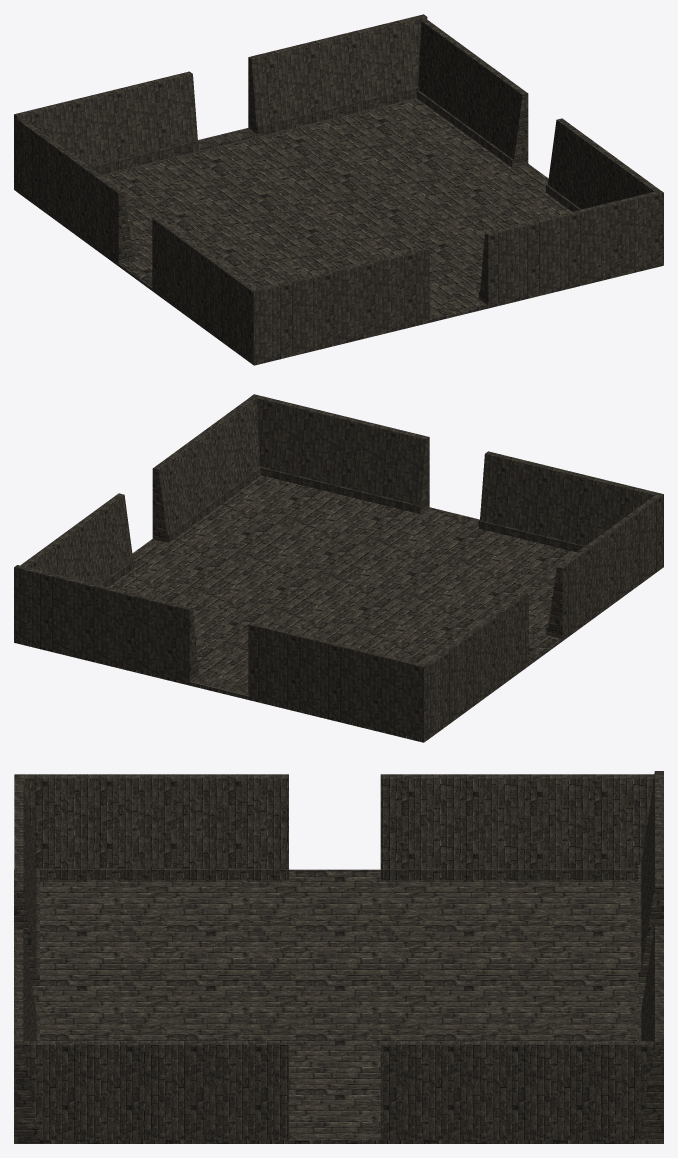
File: Room Singular.fbx
3 renders of one model, top to bottom at view 1: azimuth 30°, elevation 25°; view 2: azimuth 150°, elevation 25°; view 3: azimuth 270°, elevation 25°, orthographic. The views are drawn at different scales.
Visible parts, largest first — view 1: pCube68, polySurface34; view 2: pCube68, polySurface34; view 3: pCube68, polySurface34.
Part boxes in pixels (left/top/right/bottom): pCube68: left=14, top=14, right=663, bottom=365; polySurface34: left=102, top=98, right=663, bottom=365; pCube68: left=14, top=394, right=663, bottom=742; polySurface34: left=109, top=475, right=576, bottom=685; pCube68: left=14, top=771, right=663, bottom=1143; polySurface34: left=14, top=869, right=637, bottom=1143.
Size of the model in its own units: 70.71 by 12.46 by 71.73.
